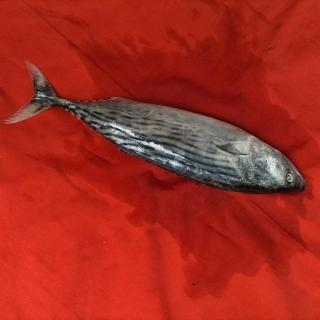Ikan: (14, 54, 314, 210)
